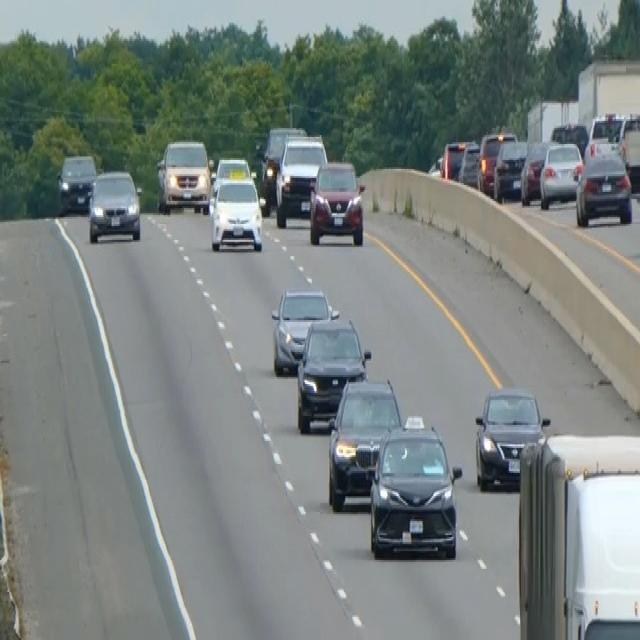car: (326, 375, 403, 510), (295, 315, 371, 432), (473, 384, 550, 491), (270, 285, 337, 375), (273, 133, 328, 226), (308, 158, 365, 245), (574, 149, 632, 226), (255, 123, 306, 210), (208, 174, 263, 251), (87, 167, 142, 244), (156, 137, 211, 213), (539, 139, 583, 208), (477, 128, 516, 196), (520, 137, 558, 204), (56, 151, 96, 213), (492, 139, 527, 201), (585, 112, 624, 160), (211, 153, 251, 194), (550, 119, 588, 157), (440, 138, 468, 180), (457, 140, 480, 187), (427, 151, 443, 178)
lorry: (515, 428, 639, 636)
minivan: (367, 412, 462, 562)
